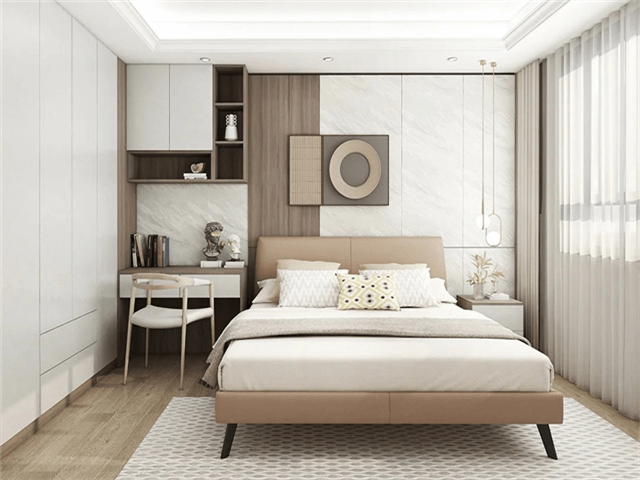床: (227, 301, 554, 456)
枕头: (259, 259, 456, 317)
灯: (475, 202, 505, 250), (449, 53, 464, 64), (322, 54, 337, 64)
